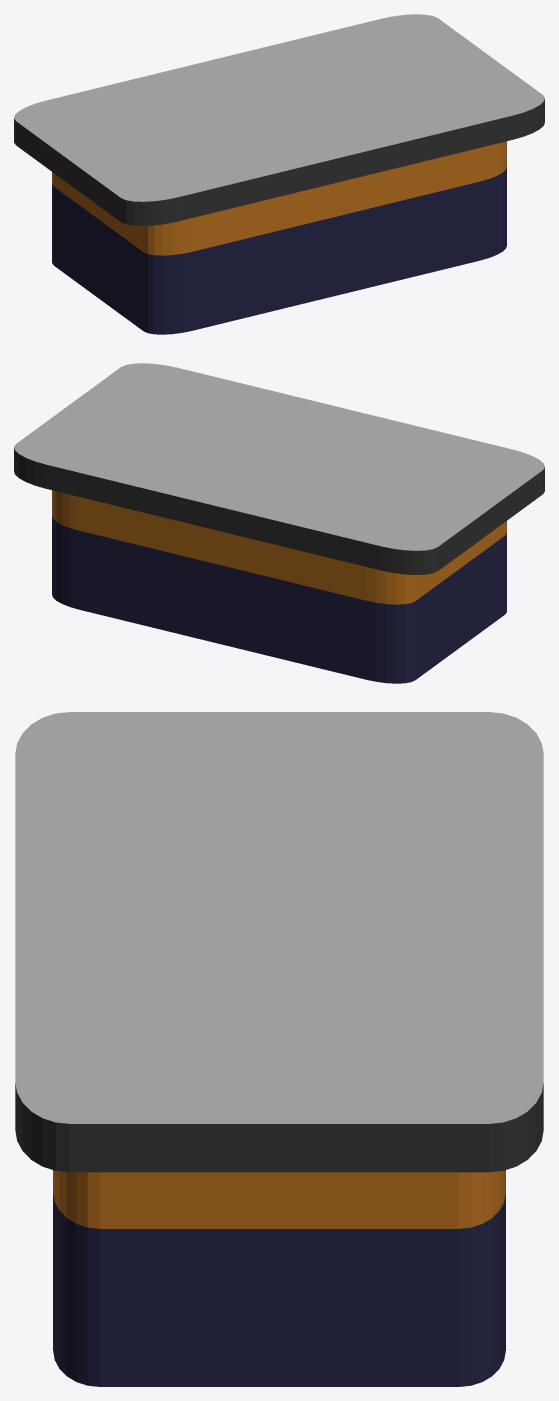
The model's file is Counter.glb.
The picture shows the model from 3 angles, top to bottom: view 1: azimuth 30°, elevation 25°; view 2: azimuth 150°, elevation 25°; view 3: azimuth 270°, elevation 25°; orthographic projection. The views are drawn at different scales.
Visible parts, largest first — view 1: CounterTop, Counter; view 2: CounterTop, Counter; view 3: CounterTop, Counter.
Part boxes in pixels (left/top/right/bottom): CounterTop: left=14, top=14, right=544, bottom=225; Counter: left=52, top=141, right=506, bottom=334; CounterTop: left=14, top=363, right=544, bottom=574; Counter: left=52, top=490, right=506, bottom=683; CounterTop: left=15, top=712, right=543, bottom=1172; Counter: left=53, top=1170, right=505, bottom=1386.
Size of the model in its own units: 0.9703 by 0.3213 by 0.5261.
